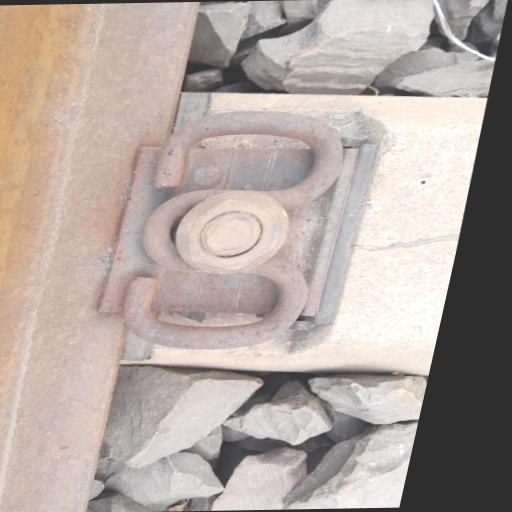bolt: (154, 180, 311, 294)
clip: (89, 98, 404, 362)
